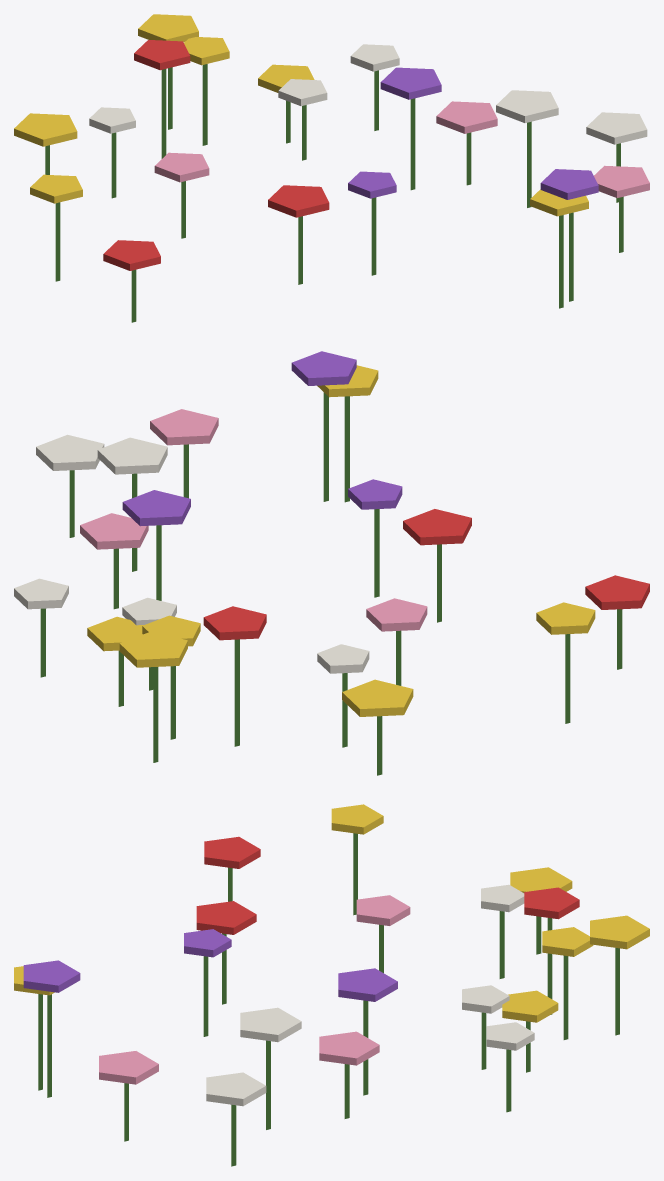
Rendered from wildflowers.glb.
The picture shows the model from 3 angles, top to bottom: view 1: azimuth 30°, elevation 25°; view 2: azimuth 150°, elevation 25°; view 3: azimuth 270°, elevation 25°; orthographic projection. The views are drawn at different scales.
Visible parts, largest first — view 1: wildflowers; view 2: wildflowers; view 3: wildflowers.
Boxes of the visible parts, bbox=[...] form: wildflowers: bbox=[14, 14, 649, 322]; wildflowers: bbox=[14, 351, 649, 775]; wildflowers: bbox=[14, 804, 649, 1166].
Bounding box in the file's own units: 2.45 × 0.5114 × 2.38.
